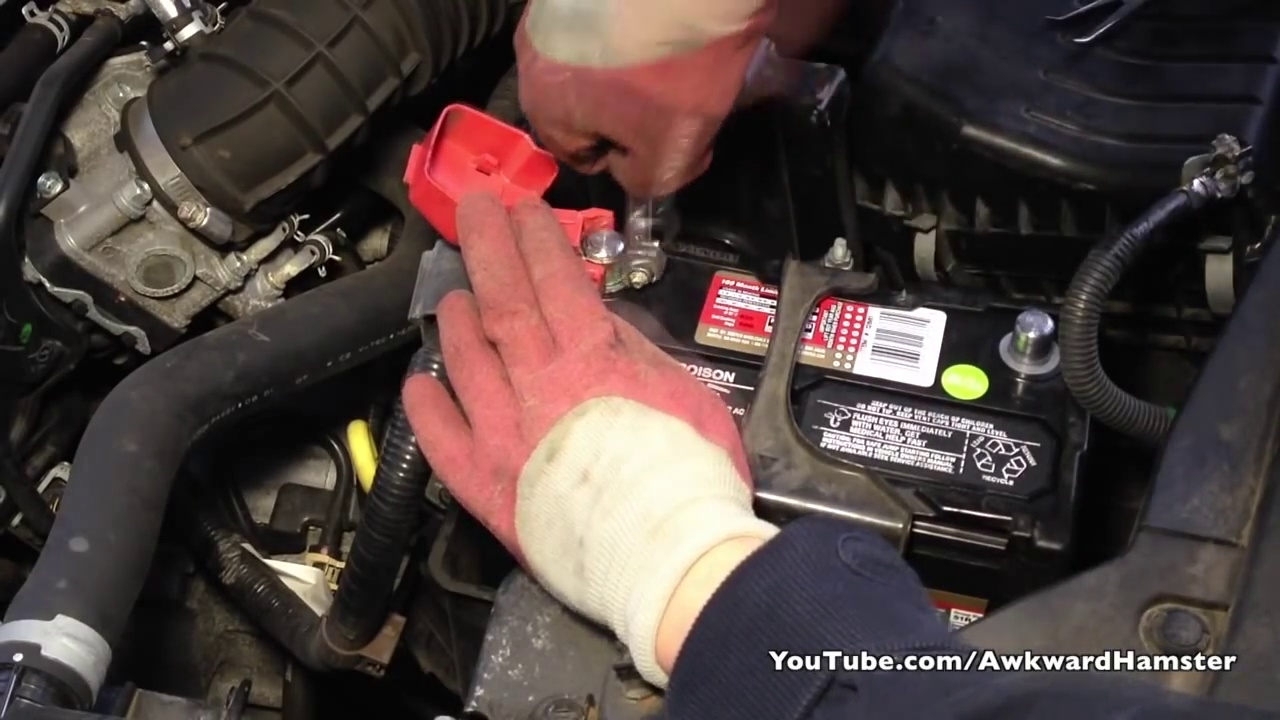battery: (530, 218, 1083, 551)
neg_disconnected: (979, 310, 1107, 395)
pos_connected: (424, 152, 650, 311)
pos_touched: (499, 172, 662, 385)
